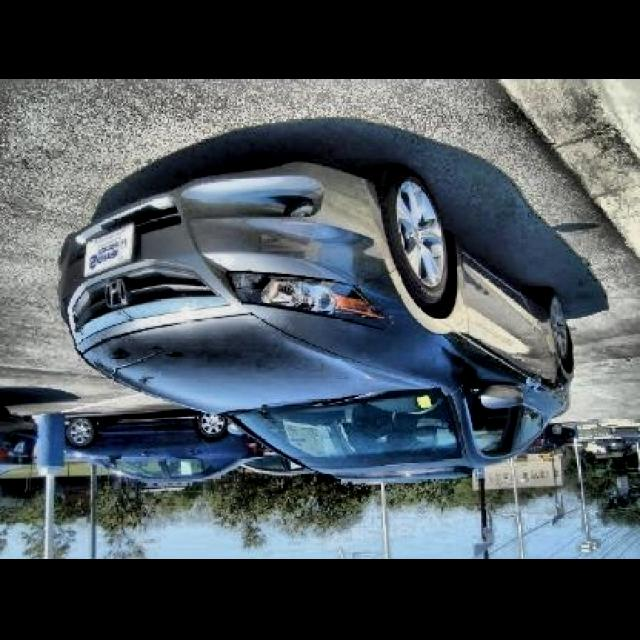black: (58, 164, 577, 475)
